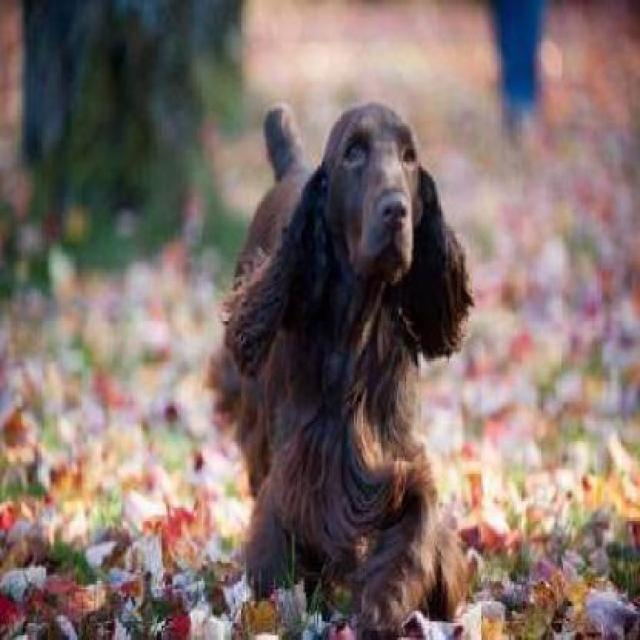animals: (213, 75, 475, 627)
